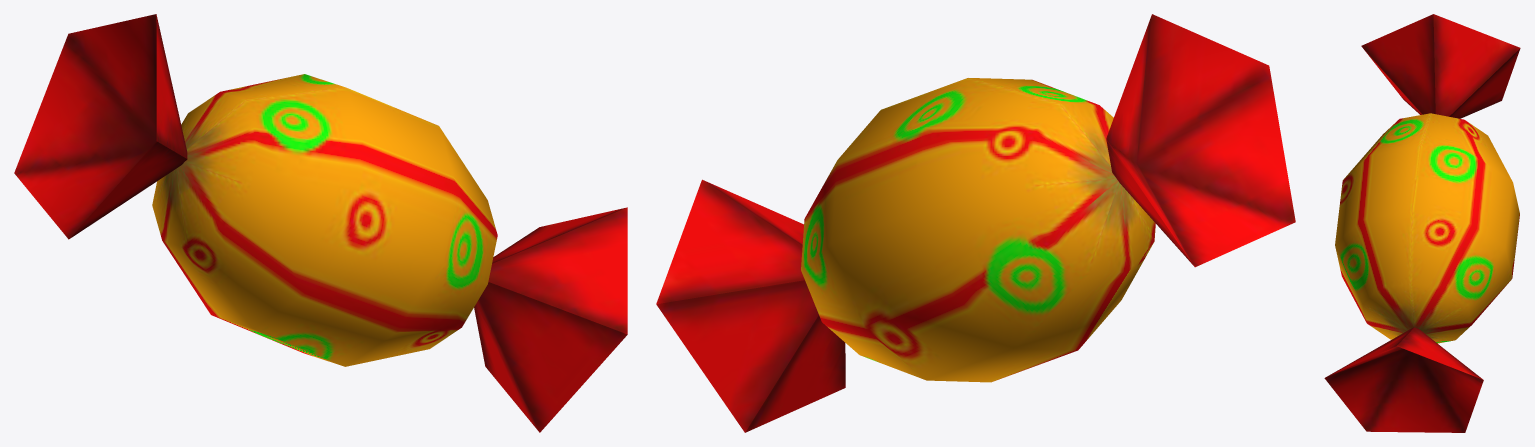
Rendered from eff_mesh_tangguo_02.FBX.
3 renders of one model, left to right at view 1: azimuth 30°, elevation 25°; view 2: azimuth 150°, elevation 25°; view 3: azimuth 270°, elevation 25°, orthographic. The views are drawn at different scales.
Parts seen in each view (by area): view 1: 001; view 2: 001; view 3: 001.
Part boxes in pixels (x1=…): 001: x1=14, y1=14, x2=627, y2=432; 001: x1=656, y1=14, x2=1295, y2=432; 001: x1=1324, y1=14, x2=1520, y2=432.
Bounding box in the file's own units: 23.03 × 18.42 × 10.59.
